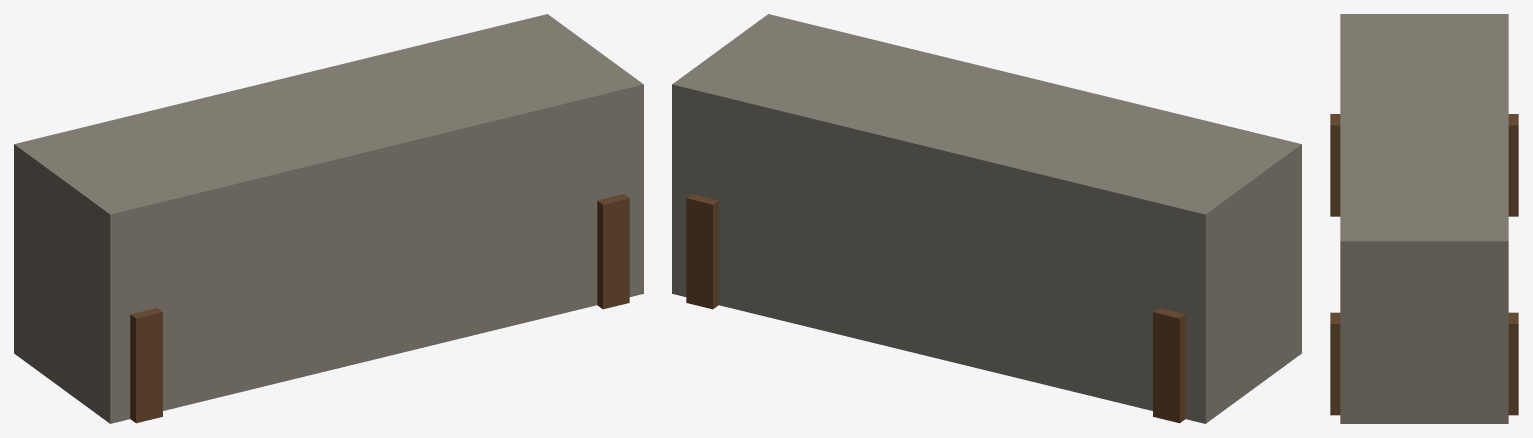
The model's file is FM_WaterTrough_01.glb.
3 views of the same model, side by side, from view 1: azimuth 30°, elevation 25°; view 2: azimuth 150°, elevation 25°; view 3: azimuth 270°, elevation 25° (orthographic). The views are drawn at different scales.
Visible parts, largest first — view 1: FM_WaterTrough_01; view 2: FM_WaterTrough_01; view 3: FM_WaterTrough_01.
Part boxes in pixels (bbox=[...]): FM_WaterTrough_01: bbox=[14, 14, 643, 423]; FM_WaterTrough_01: bbox=[672, 14, 1301, 423]; FM_WaterTrough_01: bbox=[1330, 14, 1518, 423].
Bounding box in the file's own units: 1.6 × 0.6 × 0.56.
1 material, 1 textured.
